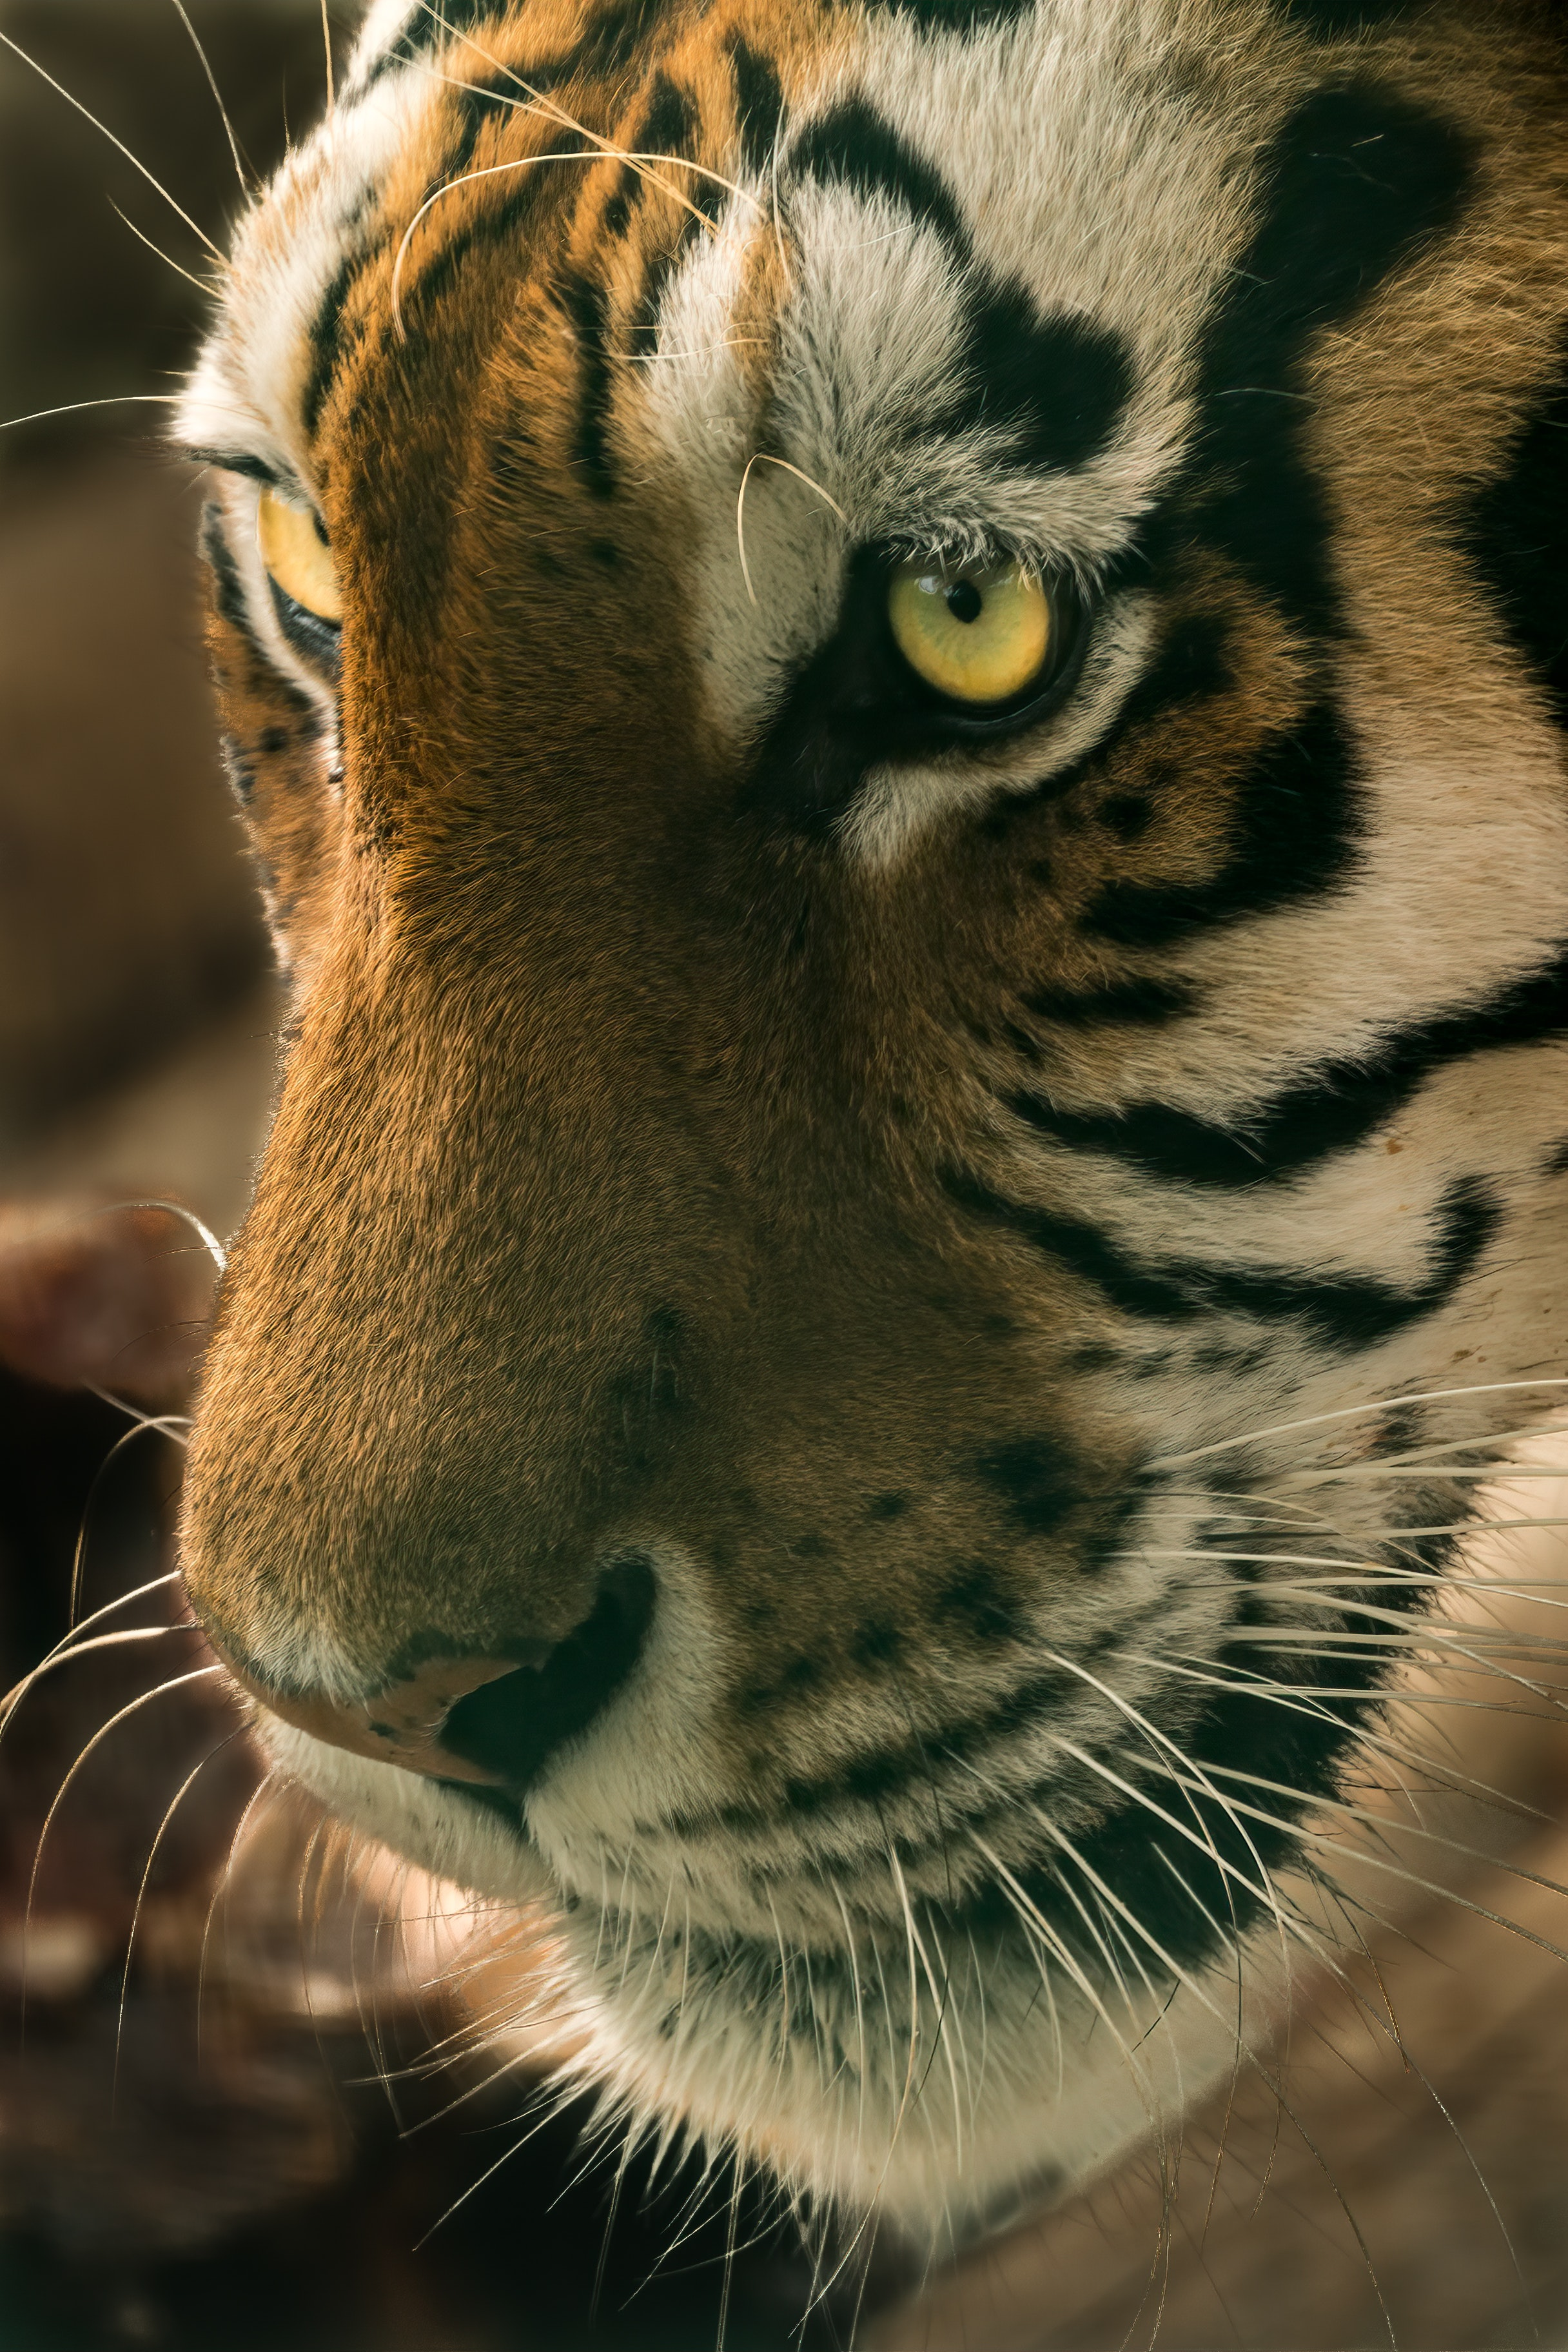tiger: (73, 30, 1568, 2251)
